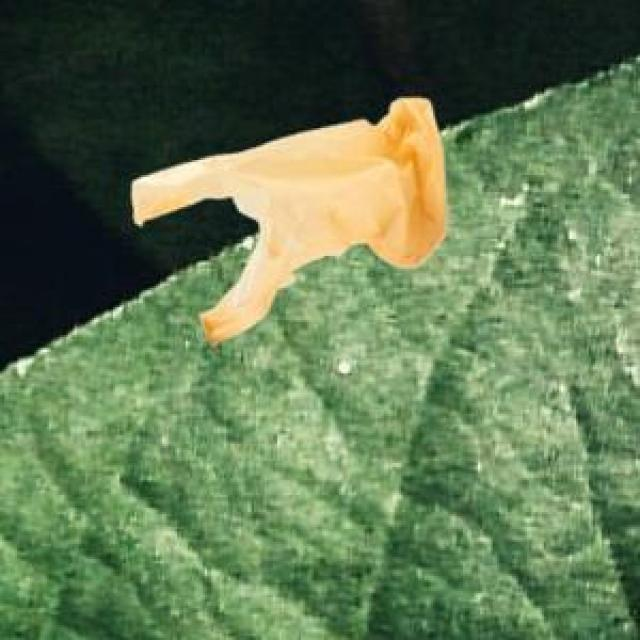plastic: (108, 70, 486, 354)
